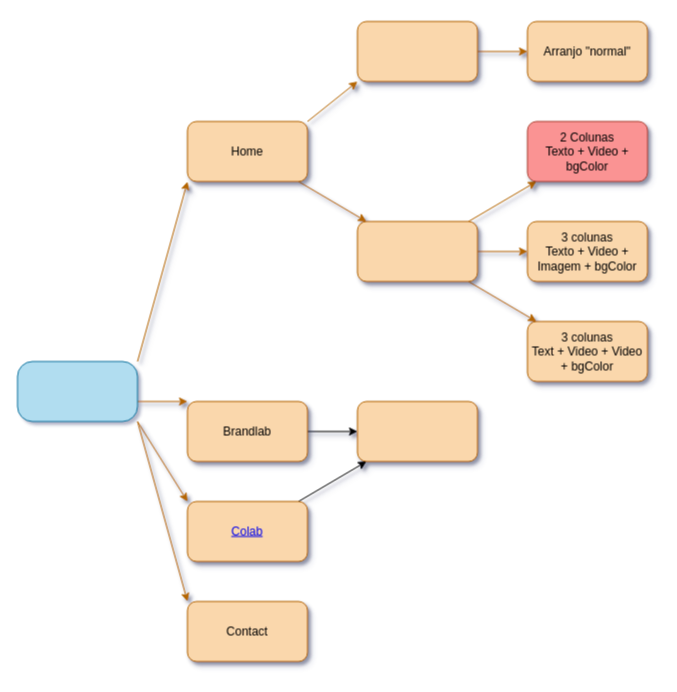
Some shapes in this 677 by 692 pixel diagram are drawn without their labels. The shapes that lost their labels are listed below. From the top down, each one's centre as x and y in pixels, then its label:
(418,52): Layouts alternativos de interface
(418,252): Layouts alternativos de tela
(77,391): Roadmap
(418,432): Componente de Paralax interno
